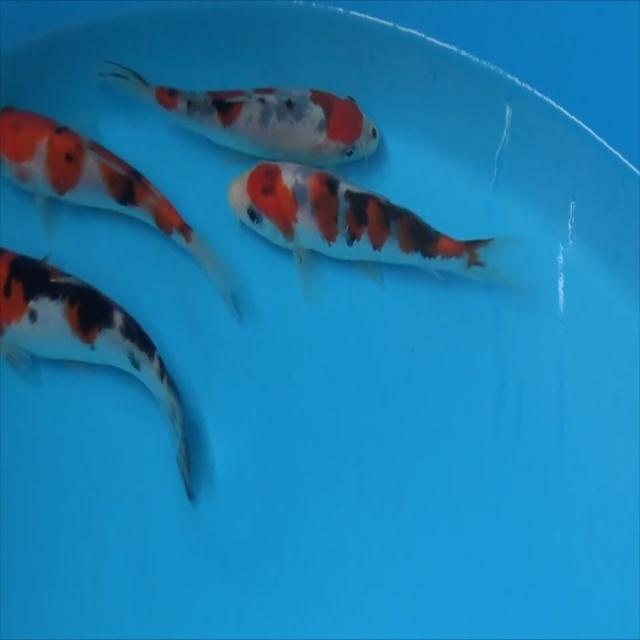Sanke: (0, 103, 242, 324), (0, 245, 195, 502), (226, 158, 494, 279), (97, 58, 380, 168)
